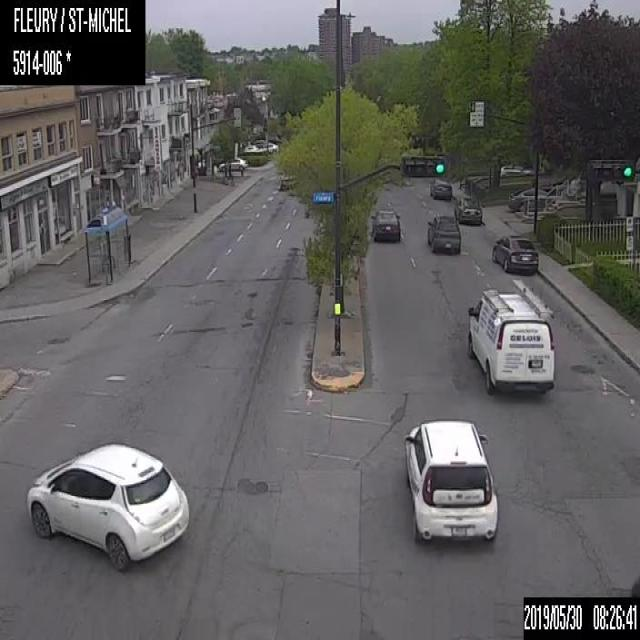vehicle: (25, 441, 189, 571), (404, 417, 498, 544), (466, 286, 556, 394), (489, 230, 539, 274), (426, 212, 460, 257), (504, 183, 548, 214), (369, 206, 401, 242), (453, 192, 484, 228), (429, 174, 452, 198), (216, 155, 247, 172)
